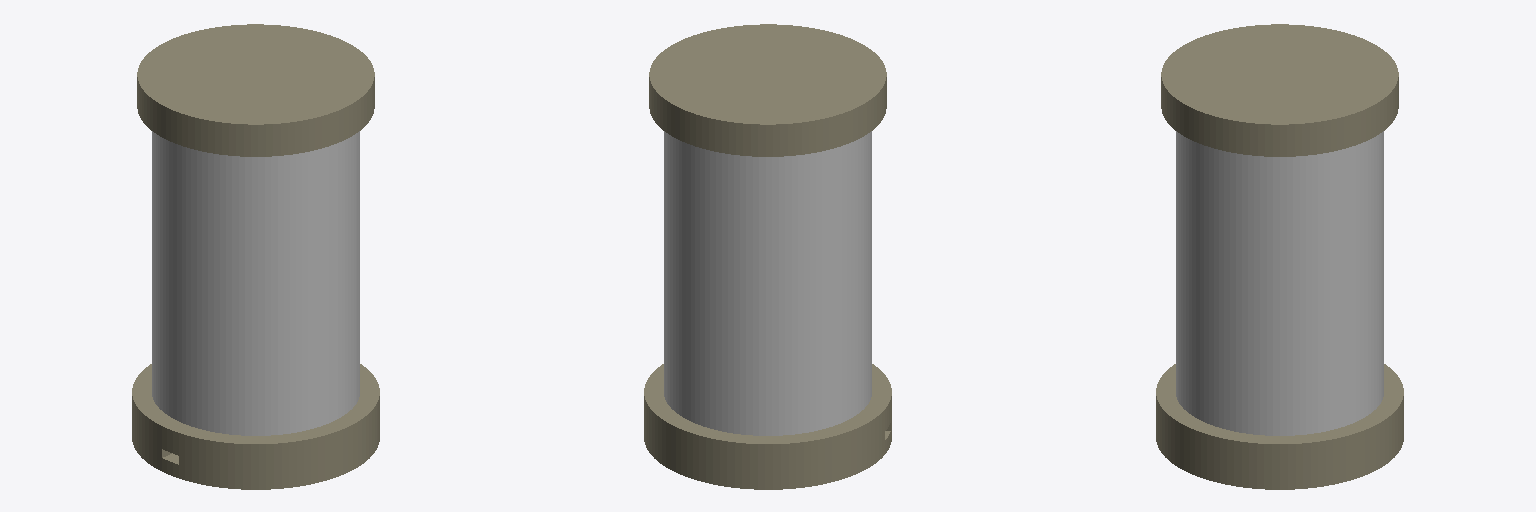
Rendered from Noooorvana.obj.
3 views of the same model, side by side, from view 1: azimuth 30°, elevation 25°; view 2: azimuth 150°, elevation 25°; view 3: azimuth 270°, elevation 25° (orthographic).
Visible parts, largest first — view 1: Cylinder012, Cylinder011, Cylinder010; view 2: Cylinder012, Cylinder011, Cylinder010; view 3: Cylinder012, Cylinder011, Cylinder010.
Boxes of the visible parts, box(x1,y1,x2,y2) form: Cylinder012: box(152, 131, 359, 435); Cylinder011: box(137, 24, 374, 156); Cylinder010: box(132, 364, 379, 489); Cylinder012: box(664, 131, 871, 435); Cylinder011: box(649, 24, 886, 156); Cylinder010: box(644, 364, 891, 489); Cylinder012: box(1176, 131, 1383, 435); Cylinder011: box(1161, 24, 1398, 156); Cylinder010: box(1156, 364, 1403, 489).
Size of the model in its own units: 0.2258 by 0.3648 by 0.2258.